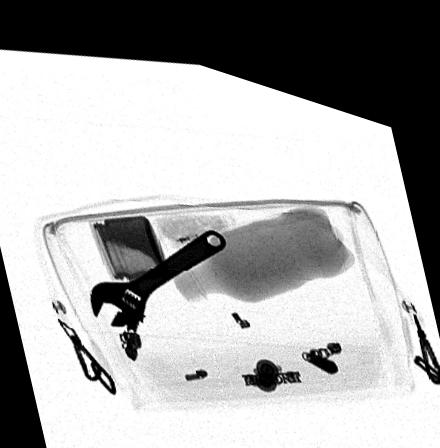Wrench: (88, 213, 228, 318)
